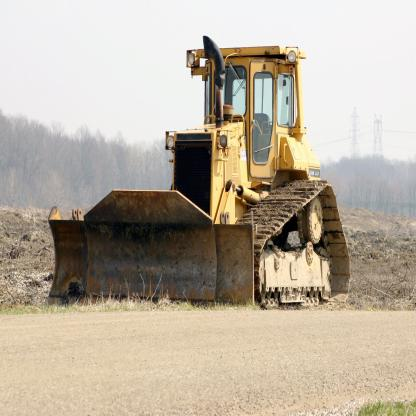bull_dozer/loader/grader: (50, 29, 388, 336)
